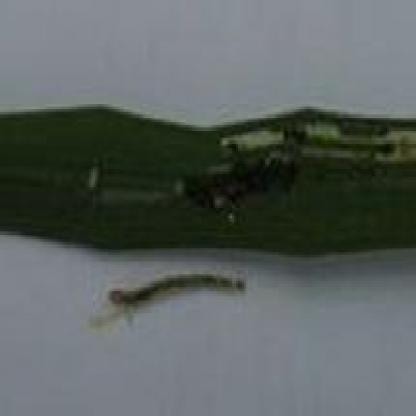leaf-folder: (98, 247, 286, 336)
